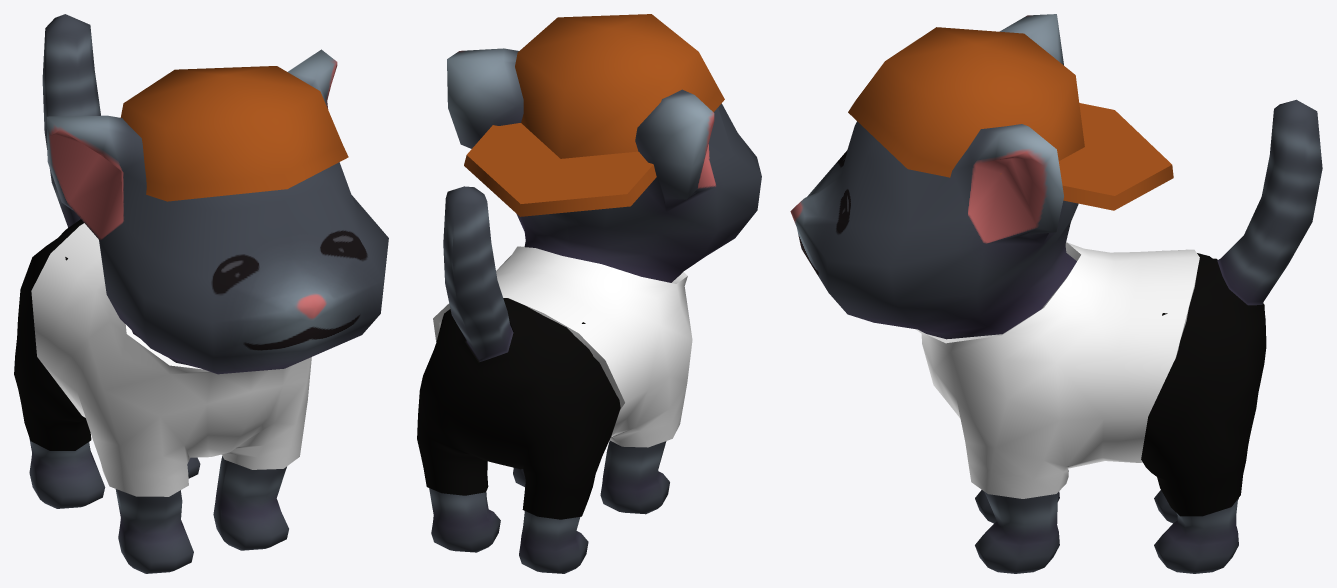
File: Dancer Cat04.fbx
The picture shows the model from 3 angles, left to right: view 1: azimuth 30°, elevation 25°; view 2: azimuth 150°, elevation 25°; view 3: azimuth 270°, elevation 25°; orthographic projection. The views are drawn at different scales.
Parts seen in each view (by area): view 1: Cat_Base003, Dancer_Cat_Shirt, Dancer_Cat_Hat, Dancer_Cat_Shorts; view 2: Cat_Base003, Dancer_Cat_Hat, Dancer_Cat_Shorts, Dancer_Cat_Shirt; view 3: Cat_Base003, Dancer_Cat_Shirt, Dancer_Cat_Hat, Dancer_Cat_Shorts.
Boxes of the visible parts, x1=… form: Cat_Base003: x1=29, y1=14, x2=388, y2=573; Dancer_Cat_Shirt: x1=31, y1=223, x2=311, y2=496; Dancer_Cat_Hat: x1=120, y1=66, x2=348, y2=201; Dancer_Cat_Shorts: x1=14, y1=219, x2=91, y2=450; Cat_Base003: x1=429, y1=48, x2=761, y2=573; Dancer_Cat_Hat: x1=464, y1=14, x2=724, y2=216; Dancer_Cat_Shorts: x1=417, y1=298, x2=620, y2=519; Dancer_Cat_Shirt: x1=433, y1=246, x2=692, y2=447; Cat_Base003: x1=790, y1=14, x2=1322, y2=573; Dancer_Cat_Shirt: x1=916, y1=242, x2=1199, y2=498; Dancer_Cat_Hat: x1=848, y1=27, x2=1173, y2=210; Dancer_Cat_Shorts: x1=1141, y1=253, x2=1266, y2=516.
Bounding box in the file's own units: 1.75 × 2.83 × 2.9.
Materials: 4 (1 with a texture image).
